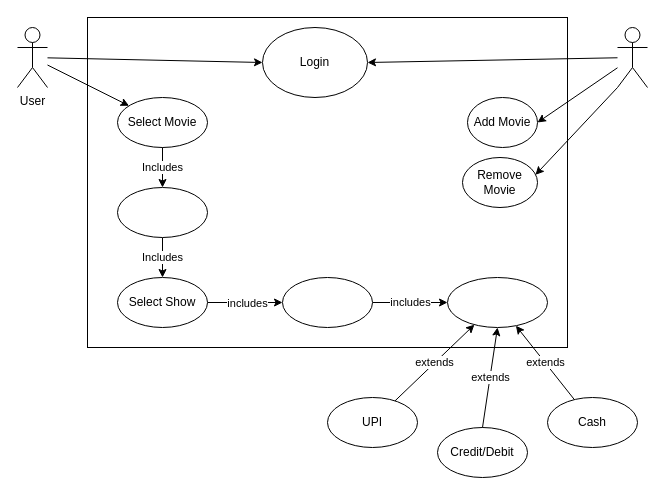
Image size: 667x495. Some labels were removed from this diagram. The box of each missing label's shape, as (x1, y1, x2, y2) in pixels:
Admin: (616, 26, 648, 88)
Make Payement: (446, 276, 548, 328)
Select Seats: (282, 276, 372, 328)
Select Theatre: (116, 186, 208, 238)
